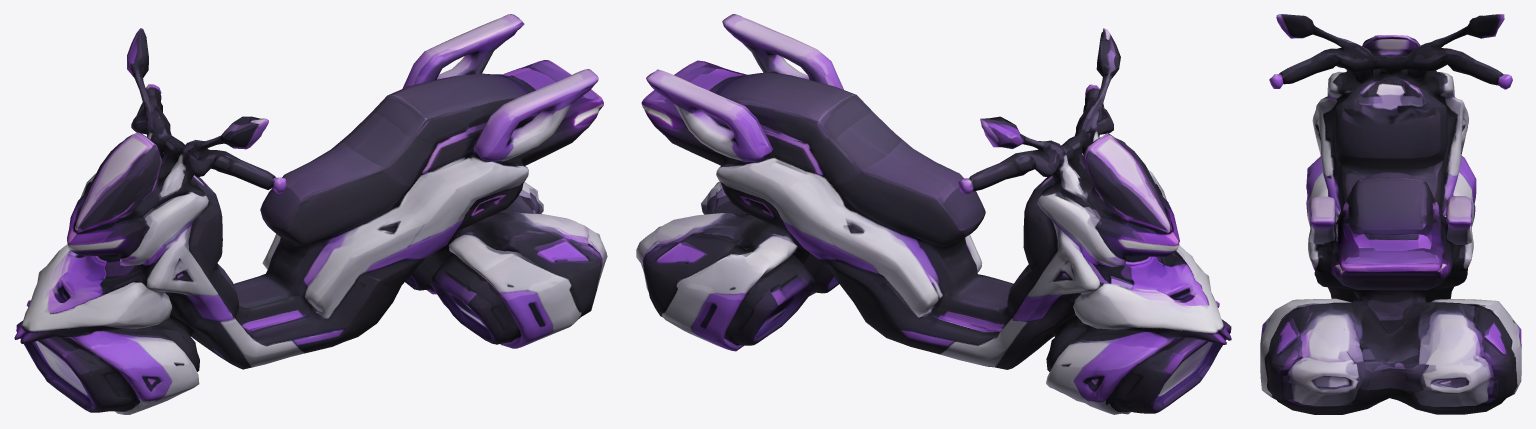
Rendered from scooter.glb.
The picture shows the model from 3 angles, left to right: view 1: azimuth 30°, elevation 25°; view 2: azimuth 150°, elevation 25°; view 3: azimuth 270°, elevation 25°; orthographic projection. The views are drawn at different scales.
Parts seen in each view (by area): view 1: tripo_node_8f52bfcd; view 2: tripo_node_8f52bfcd; view 3: tripo_node_8f52bfcd.
Boxes of the visible parts, box(x1,y1,x2,y2) form: tripo_node_8f52bfcd: box(14, 14, 607, 414); tripo_node_8f52bfcd: box(636, 14, 1231, 414); tripo_node_8f52bfcd: box(1260, 14, 1521, 414).
Size of the model in its own units: 0.983 by 0.5058 by 0.4383.
Materials: 1 (1 with a texture image).
